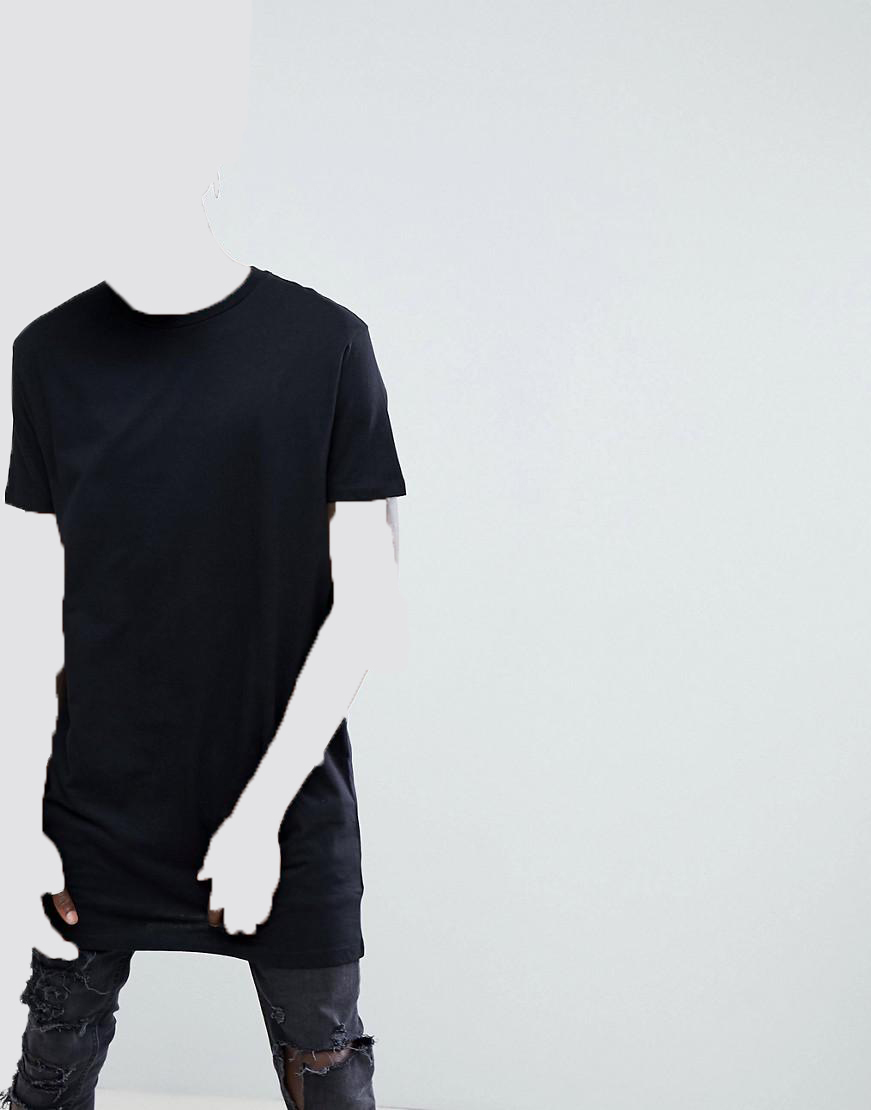teeshirt: (1, 268, 412, 971)
